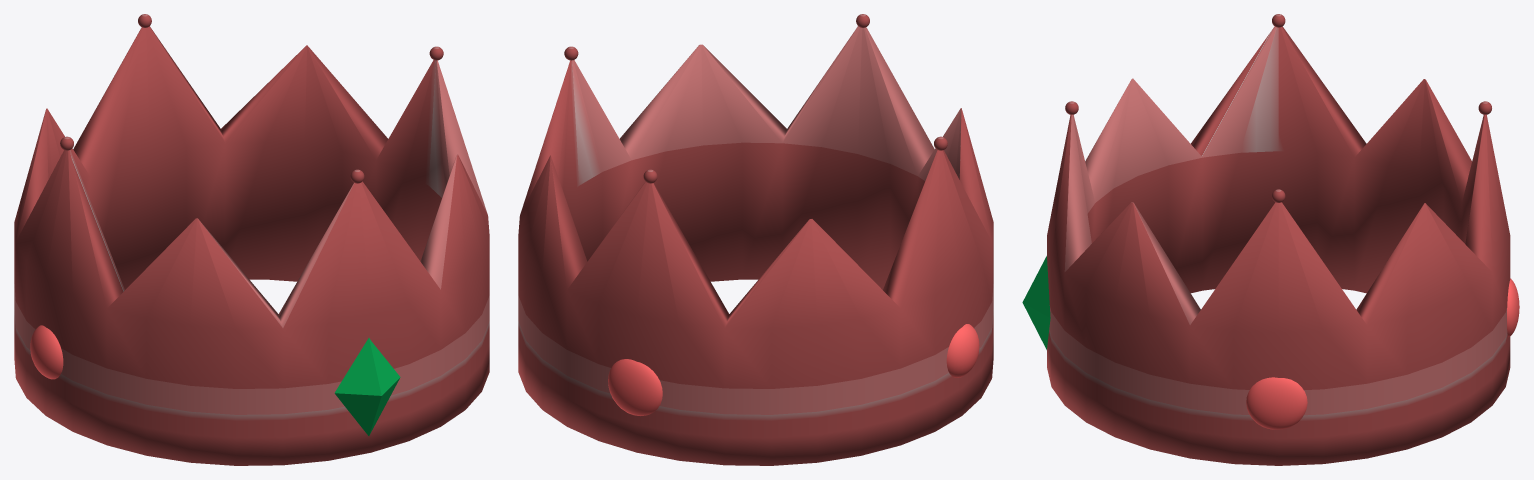
The model's file is crown_dou.fbx.
3 renders of one model, left to right at view 1: azimuth 30°, elevation 25°; view 2: azimuth 150°, elevation 25°; view 3: azimuth 270°, elevation 25°, orthographic. The views are drawn at different scales.
Visible parts, largest first — view 1: 立方体.002; view 2: 立方体.002; view 3: 立方体.002.
Boxes of the visible parts, x1,y1,x2,y2 form: 立方体.002: [14, 14, 489, 465]; 立方体.002: [518, 14, 993, 465]; 立方体.002: [1022, 14, 1519, 465].
Size of the model in its own units: 144 by 140 by 84.68.
